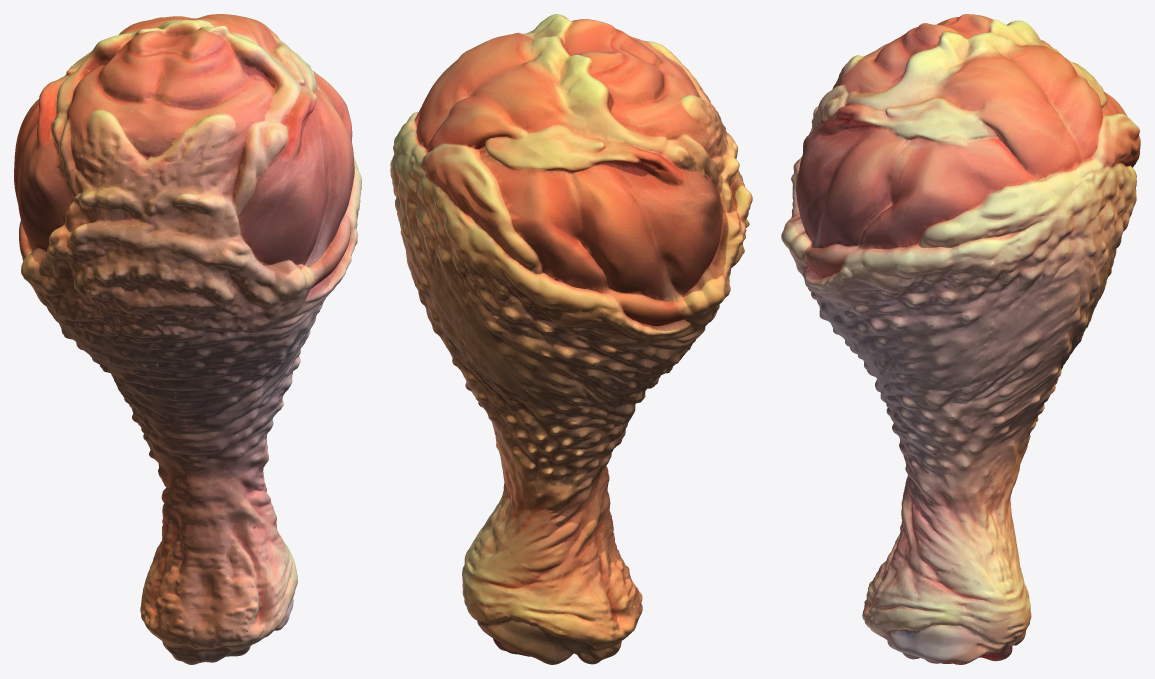
The model's file is raw_chicken.glb.
3 views of the same model, side by side, from view 1: azimuth 30°, elevation 25°; view 2: azimuth 150°, elevation 25°; view 3: azimuth 270°, elevation 25° (orthographic).
Parts seen in each view (by area): view 1: mesh_node; view 2: mesh_node; view 3: mesh_node.
Boxes of the visible parts, box(x1,y1,x2,y2) form: mesh_node: box(14, 14, 361, 664); mesh_node: box(390, 14, 752, 664); mesh_node: box(781, 14, 1140, 664).
Bounding box in the file's own units: 1.6 × 3.05 × 1.59.
Materials: 1 (1 with a texture image).
